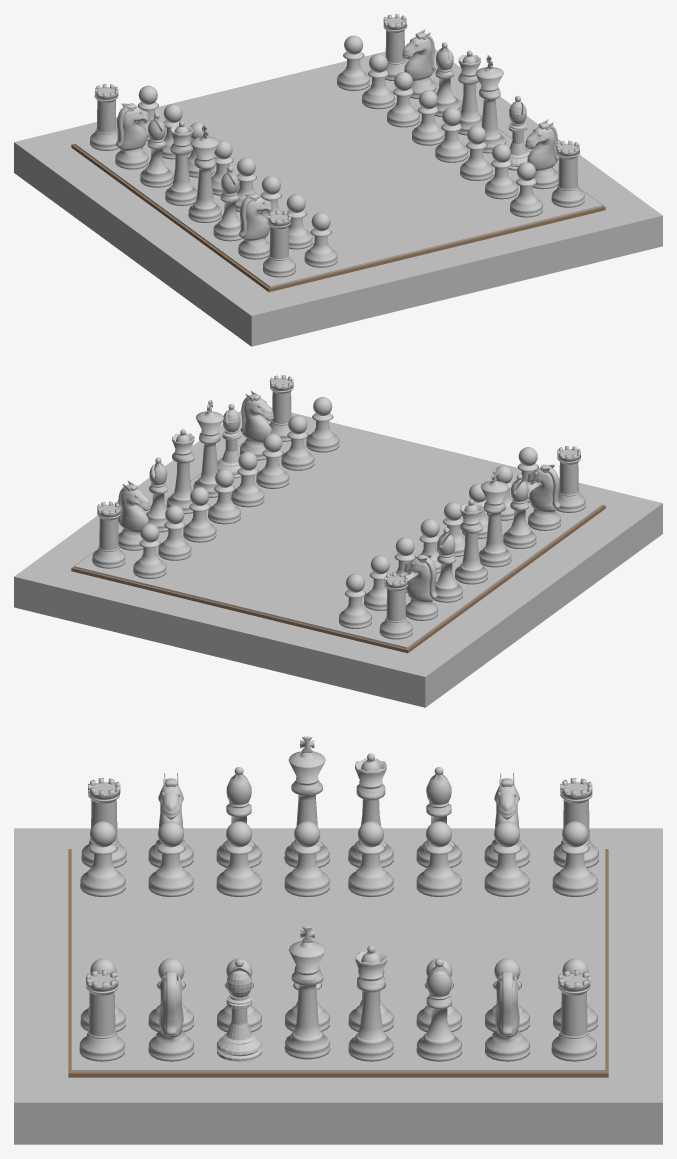
3 views of the same model, one above another, from view 1: azimuth 30°, elevation 25°; view 2: azimuth 150°, elevation 25°; view 3: azimuth 270°, elevation 25° (orthographic). The views are drawn at different scales.
Visible parts, largest first — view 1: Chess Board, W_King, W_Knight_2, W_Knight_1, B_Knight_1, W_Queen, B_Knight_2, B_King, B_Rook_1, W_Rook_1, W_Rook_2, W_Bishop_2 (+20 smaller); view 2: Chess Board, W_King, W_Knight_1, W_Knight_2, W_Queen, B_Knight_2, B_Knight_1, B_King, B_Rook_2, W_Rook_2, W_Rook_1, B_Queen (+21 smaller); view 3: Chess Board, B_King, B_Queen, B_Rook_2, B_Rook_1, B_Bishop_2, B_Bishop_1, W_King, B_Knight_1, B_Knight_2, W_Pawn_8, W_Pawn_4 (+21 smaller).
Part boxes in pixels (bbox=[...]): Chess Board: bbox=[14, 49, 662, 346]; W_King: bbox=[188, 125, 221, 222]; W_Knight_2: bbox=[115, 103, 149, 169]; W_Knight_1: bbox=[238, 193, 272, 259]; B_Knight_1: bbox=[525, 119, 558, 189]; W_Queen: bbox=[165, 121, 197, 205]; B_Knight_2: bbox=[402, 29, 436, 98]; B_King: bbox=[475, 55, 506, 153]; B_Rook_1: bbox=[551, 140, 584, 207]; W_Rook_1: bbox=[263, 210, 295, 277]; W_Rook_2: bbox=[90, 84, 118, 150]; W_Bishop_2: bbox=[140, 112, 173, 187]; Chess Board: bbox=[14, 407, 662, 707]; W_King: bbox=[479, 469, 511, 567]; W_Knight_1: bbox=[527, 464, 560, 530]; W_Knight_2: bbox=[404, 554, 437, 620]; W_Queen: bbox=[455, 499, 487, 584]; B_Knight_2: bbox=[118, 480, 150, 550]; B_Knight_1: bbox=[240, 390, 273, 460]; B_King: bbox=[193, 400, 223, 497]; B_Rook_2: bbox=[92, 501, 125, 568]; W_Rook_2: bbox=[379, 572, 412, 639]; W_Rook_1: bbox=[556, 446, 585, 512]; B_Queen: bbox=[166, 429, 194, 514]; Chess Board: bbox=[14, 828, 662, 1144]; B_King: bbox=[284, 926, 330, 1059]; B_Queen: bbox=[348, 945, 393, 1061]; B_Rook_2: bbox=[551, 970, 596, 1061]; B_Rook_1: bbox=[79, 970, 124, 1061]; B_Bishop_2: bbox=[416, 959, 461, 1061]; B_Bishop_1: bbox=[217, 959, 261, 1061]; W_King: bbox=[284, 736, 329, 867]; B_Knight_1: bbox=[148, 971, 193, 1061]; B_Knight_2: bbox=[485, 971, 529, 1061]; W_Pawn_8: bbox=[552, 821, 597, 896]; W_Pawn_4: bbox=[284, 821, 329, 896].
Bounding box in the file's own units: 700 × 208 × 700.
